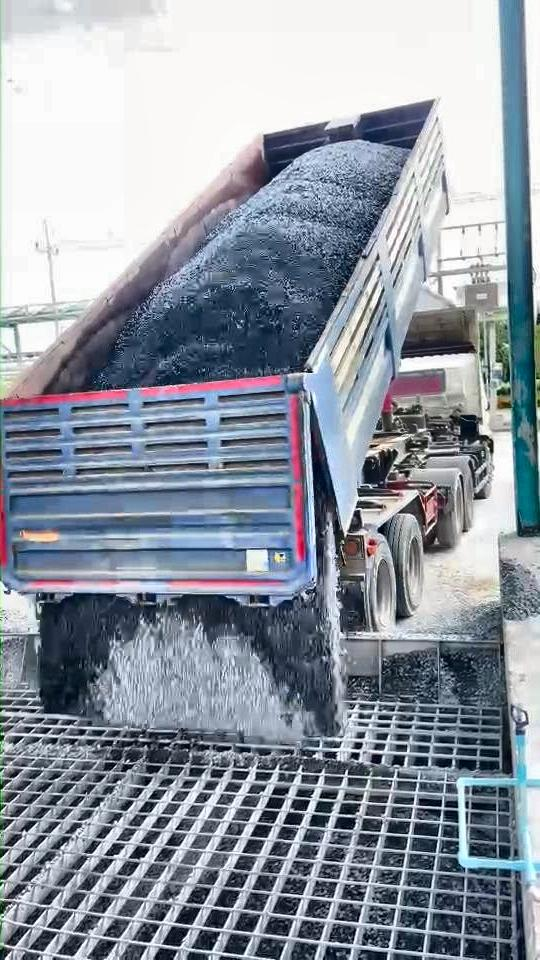gravel: (87, 140, 407, 389), (40, 494, 343, 741), (384, 603, 506, 706), (502, 560, 540, 620)
